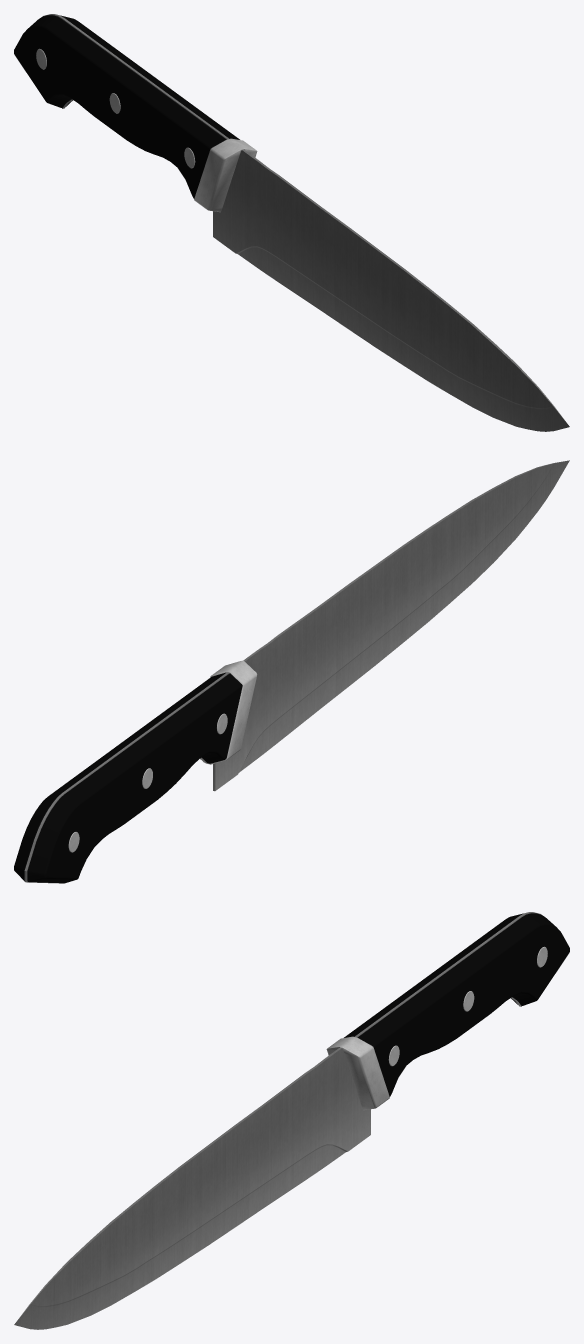
Rendered from kitchen_knife.glb.
3 renders of one model, top to bottom at view 1: azimuth 30°, elevation 25°; view 2: azimuth 150°, elevation 25°; view 3: azimuth 330°, elevation 25°, orthographic.
Parts seen in each view (by area): view 1: Knife1_Blade_0, Knife1_Handle_1, Metal_plate_3, Knife1_Bolts_2; view 2: Knife1_Blade_0, Knife1_Handle_1, Metal_plate_3, Knife1_Bolts_2; view 3: Knife1_Blade_0, Knife1_Handle_1, Metal_plate_3, Knife1_Bolts_2.
Part boxes in pixels (x1,y1,x2,y2): Knife1_Blade_0: [39, 14, 569, 431]; Knife1_Handle_1: [14, 15, 244, 198]; Metal_plate_3: [194, 138, 257, 212]; Knife1_Bolts_2: [36, 48, 195, 168]; Knife1_Blade_0: [24, 460, 569, 883]; Knife1_Handle_1: [14, 672, 242, 883]; Metal_plate_3: [206, 660, 257, 764]; Knife1_Bolts_2: [68, 713, 227, 852]; Knife1_Blade_0: [14, 912, 544, 1329]; Knife1_Handle_1: [339, 913, 569, 1096]; Metal_plate_3: [326, 1036, 389, 1110]; Knife1_Bolts_2: [388, 946, 547, 1066].
Size of the model in its own units: 0.0119 by 0.0364 by 0.3296.
1 material, 1 textured.
